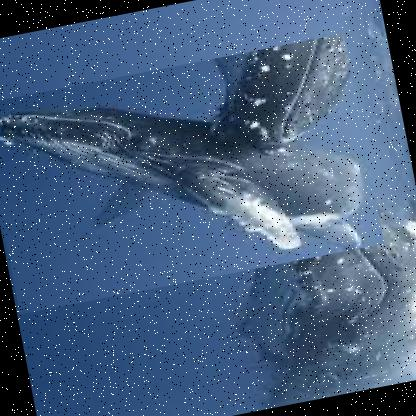blue_whale: (0, 32, 385, 315)
